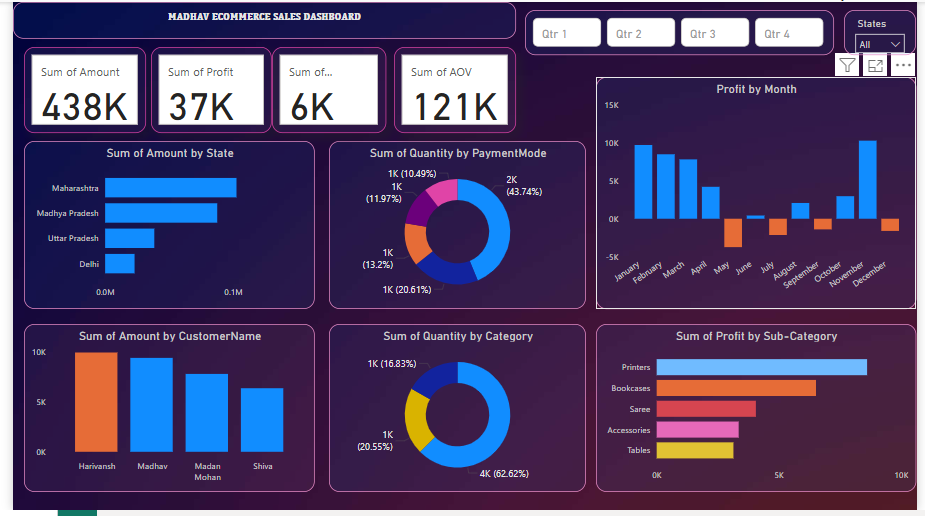

Layout of this report page (visuals, bound fields, positions):
{"tool":"powerbi","page":{"name":"Page 1","canvas":[1280,720],"ordinal":0},"visuals":[{"type":"clusteredColumnChart","title":"Profit by Month","fields":{"Category":["Orders.Order Date.Variation.Date Hierarchy.Month"],"Y":["Sum(Details.Profit)"]},"box":[826.3,106.3,453.5,328.8],"z":0},{"type":"textbox","box":[0,0,712.9,52.4],"z":1000},{"type":"barChart","fields":{"Category":["Details.Sub-Category"],"Y":["Sum(Details.Profit)"]},"box":[826.3,456.4,453.5,238.1],"z":2000},{"type":"donutChart","fields":{"Y":["Sum(Details.Quantity)"],"Category":["Details.Category"]},"box":[447.9,456.4,364.3,238.1],"z":3000},{"type":"donutChart","fields":{"Y":["Sum(Details.Quantity)"],"Category":["Details.PaymentMode"]},"box":[447.9,197,364.3,238.1],"z":4000},{"type":"cardVisual","fields":{"Data":["Sum(Details.Amount)"]},"box":[15.6,63.8,172.9,121.9],"z":5000},{"type":"cardVisual","fields":{"Data":["Sum(Details.Profit)"]},"box":[195.6,63.8,171.5,121.9],"z":6000},{"type":"cardVisual","fields":{"Data":["Sum(Details.Quantity)"]},"box":[367.1,63.8,161.6,121.9],"z":7000},{"type":"cardVisual","fields":{"Data":["Sum(Details.AOV)"]},"box":[540,63.8,172.9,121.9],"z":8000},{"type":"barChart","fields":{"Category":["Orders.State"],"Y":["Sum(Details.Amount)"]},"box":[15.6,197,412.4,238.1],"z":9000},{"type":"columnChart","fields":{"Category":["Orders.CustomerName"],"Y":["Sum(Details.Amount)"]},"box":[15.6,456.4,412.4,238.1],"z":10000},{"type":"advancedSlicerVisual","fields":{"Values":["Orders.Order Date.Variation.Date Hierarchy.Quarter"]},"box":[725.7,11.3,438,63.8],"z":11000},{"type":"slicer","fields":{"Values":["Orders.State"]},"box":[1177.8,11.3,102,63.8],"z":11001}]}

Visuals, with their boxes in screenshot pixels (x1, y1, x2, y2), scaled from the page's 1280x720 canvas onto the 925x516 screenshot:
"Profit by Month" clusteredColumnChart: left=597, top=76, right=924, bottom=312
textbox: left=0, top=0, right=515, bottom=38
barChart - Details.Sub-Category x Sum(Details.Profit): left=597, top=327, right=924, bottom=498
donutChart - Sum(Details.Quantity) x Details.Category: left=324, top=327, right=587, bottom=498
donutChart - Sum(Details.Quantity) x Details.PaymentMode: left=324, top=141, right=587, bottom=312
cardVisual - Sum(Details.Amount): left=11, top=46, right=136, bottom=133
cardVisual - Sum(Details.Profit): left=141, top=46, right=265, bottom=133
cardVisual - Sum(Details.Quantity): left=265, top=46, right=382, bottom=133
cardVisual - Sum(Details.AOV): left=390, top=46, right=515, bottom=133
barChart - Orders.State x Sum(Details.Amount): left=11, top=141, right=309, bottom=312
columnChart - Orders.CustomerName x Sum(Details.Amount): left=11, top=327, right=309, bottom=498
advancedSlicerVisual - Orders.Order Date.Variation.Date Hierarchy.Quarter: left=524, top=8, right=841, bottom=54
slicer - Orders.State: left=851, top=8, right=924, bottom=54
